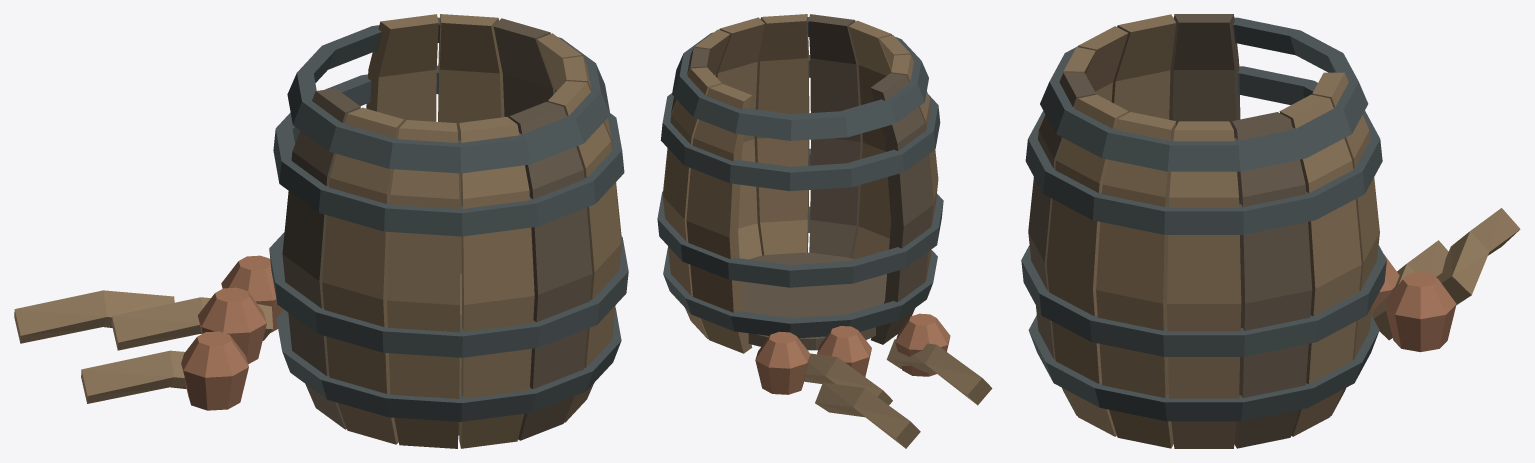
Rendered from DG_Barrel_BurstCache.fbx.
3 renders of one model, left to right at view 1: azimuth 30°, elevation 25°; view 2: azimuth 150°, elevation 25°; view 3: azimuth 270°, elevation 25°, orthographic. The views are drawn at different scales.
Visible parts, largest first — view 1: DG_Barrel_BurstCache; view 2: DG_Barrel_BurstCache; view 3: DG_Barrel_BurstCache.
Boxes of the visible parts, x1,y1,x2,y2 form: DG_Barrel_BurstCache: [14, 14, 628, 448]; DG_Barrel_BurstCache: [657, 14, 992, 448]; DG_Barrel_BurstCache: [1021, 14, 1520, 448].
Size of the model in its own units: 1.17 by 0.78 by 1.11.
